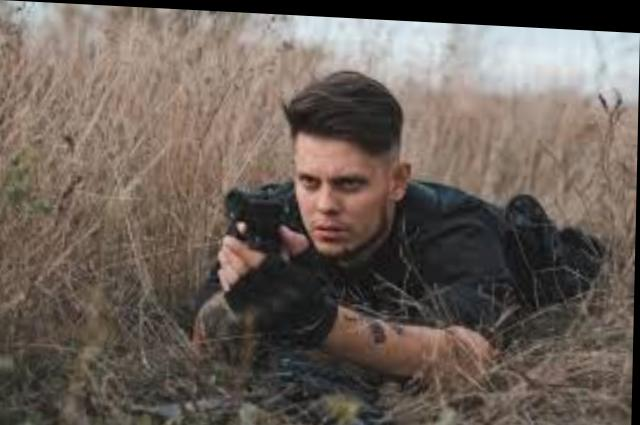other: (192, 59, 609, 357)
